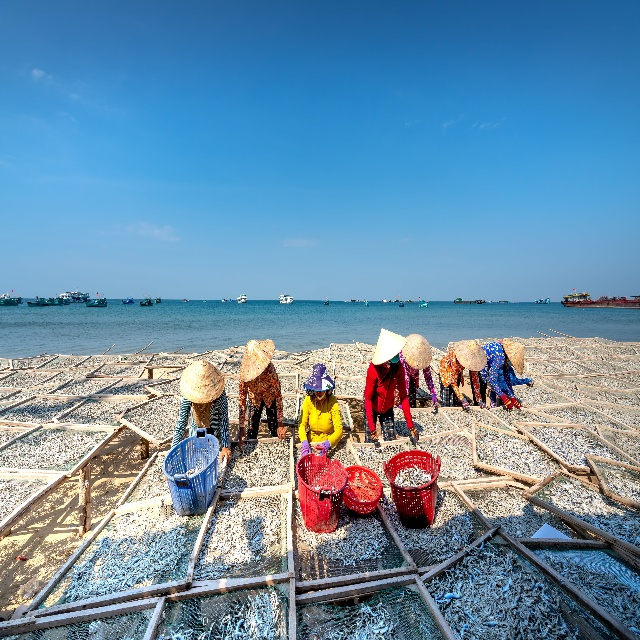Guantes: (319, 438, 330, 455), (502, 396, 512, 412), (409, 426, 419, 441), (301, 441, 311, 456), (461, 397, 470, 411), (480, 398, 490, 410), (431, 394, 438, 411), (513, 397, 522, 410), (370, 430, 378, 443)
Sin_guantes: (217, 446, 231, 464), (237, 429, 247, 452), (277, 424, 287, 442)
